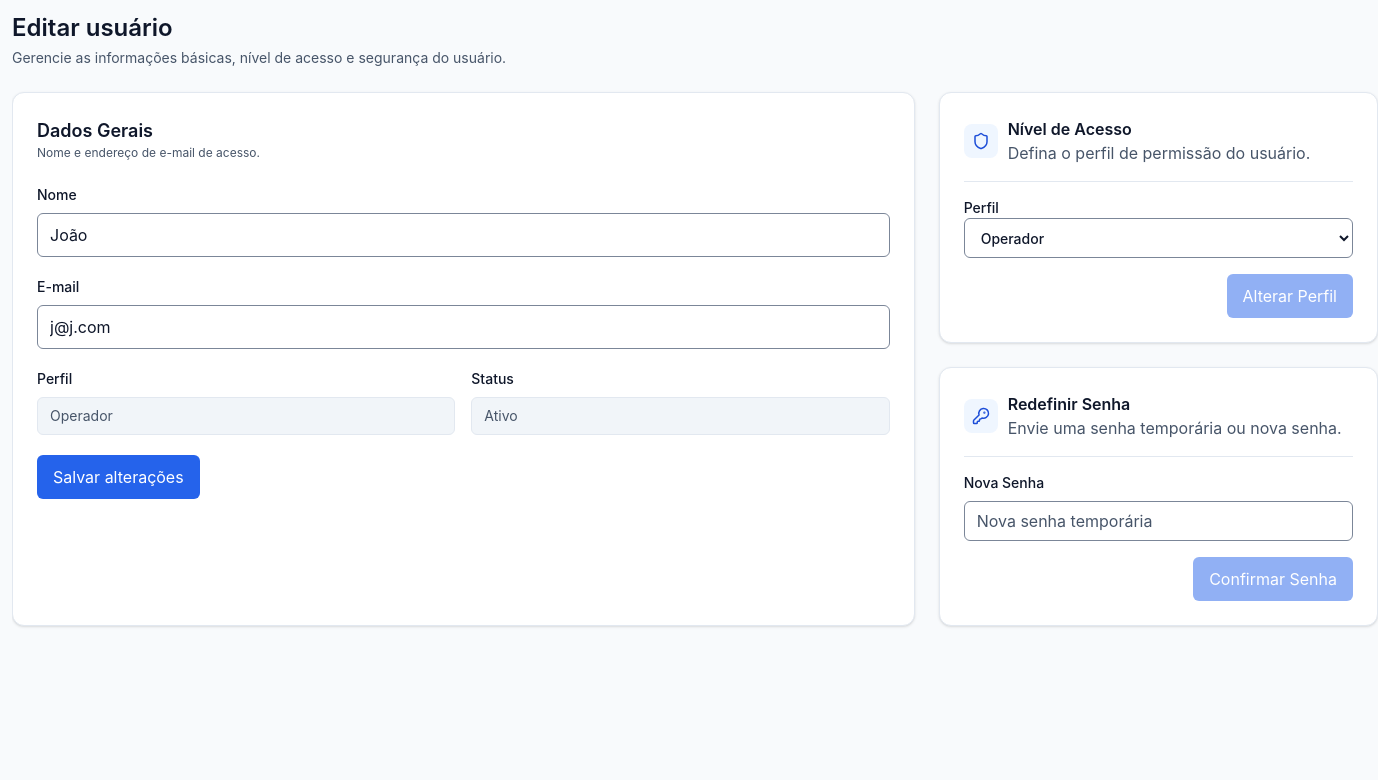
Test: EditarUsuarioPage — salvar, perfil e senha › deve mostrar o erro da API quando alterar o perfil falha
The image size is (1378, 780).
Select "Gestor" in the dropdown labelled "Perfil" at {"x": 1158, "y": 238}, box top-left (964, 218), bottom-right (1353, 258)
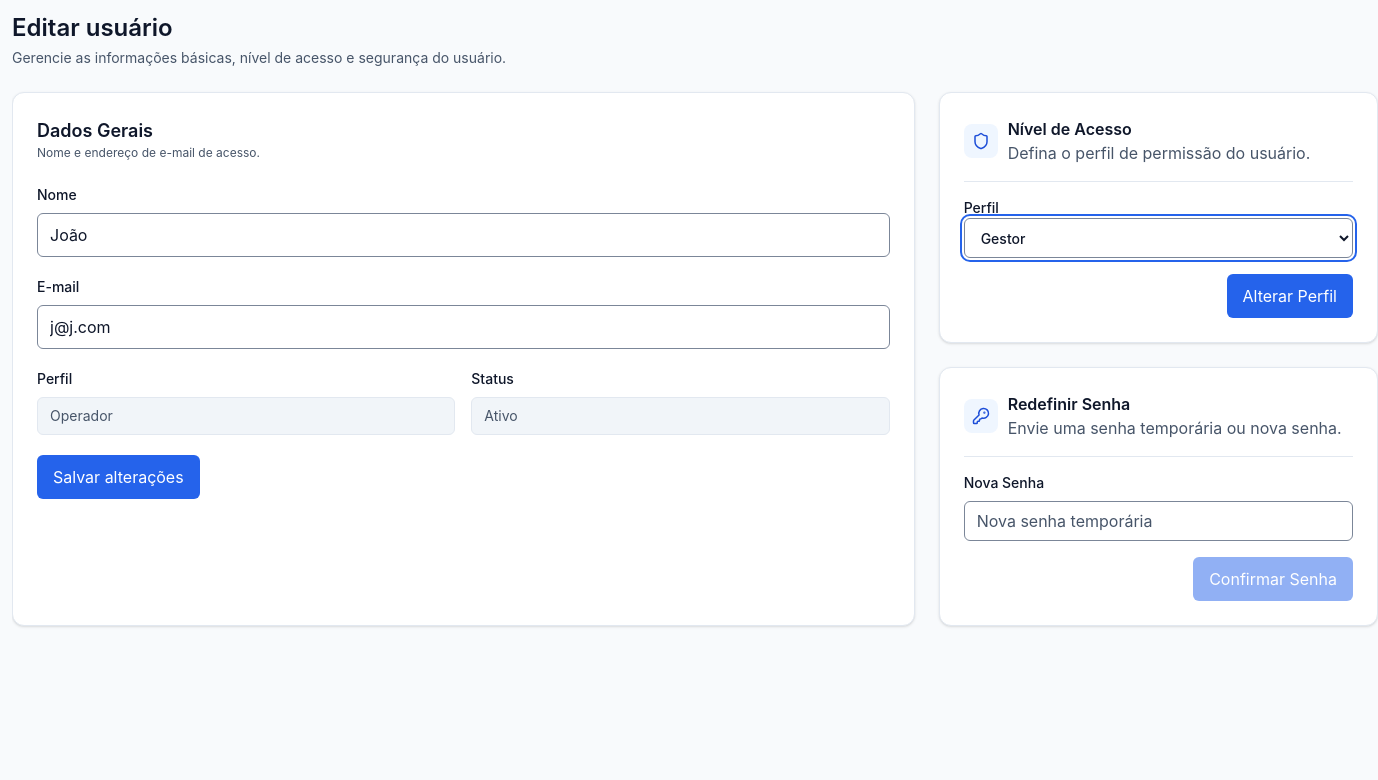
Click the button "Alterar Perfil" at {"x": 1290, "y": 296}, box top-left (1226, 274), bottom-right (1353, 318)
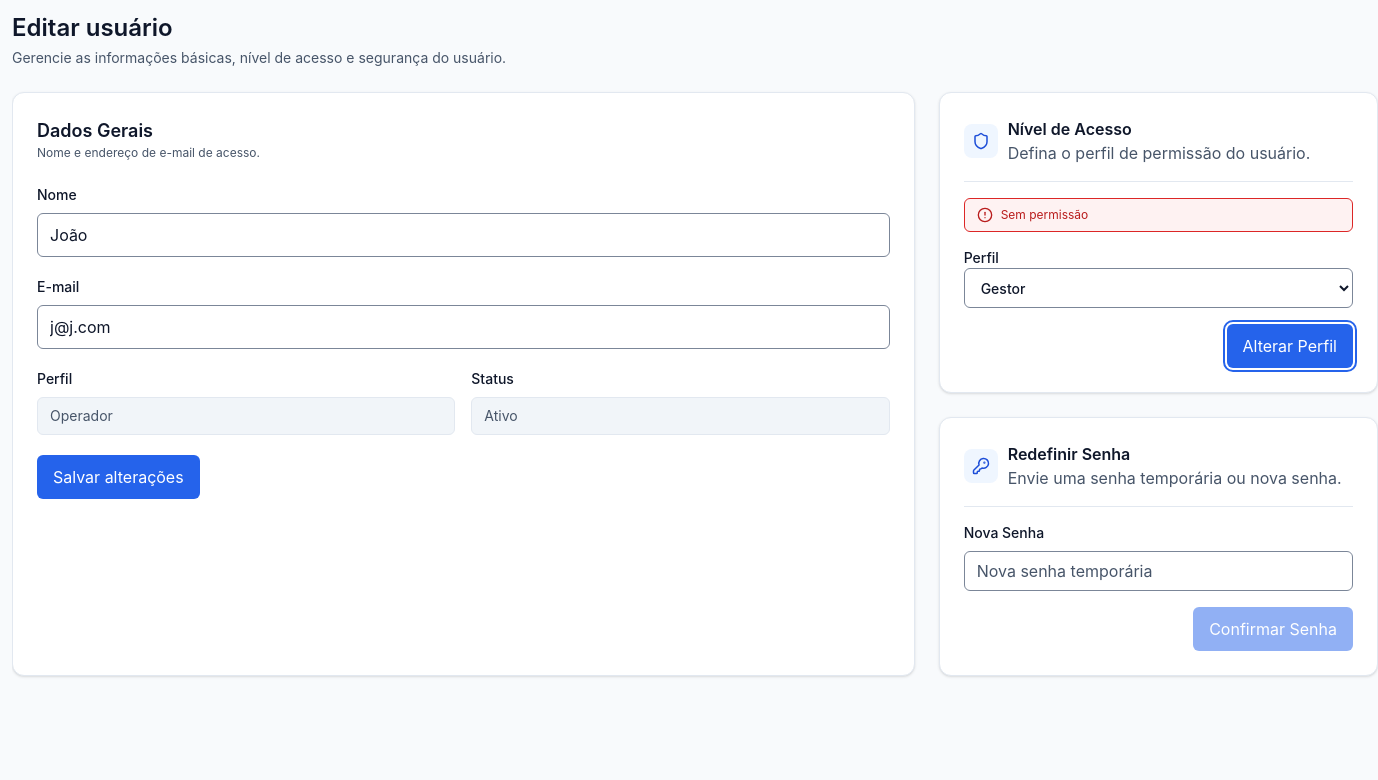
Expected: the text "Sem permissão" is shown, top-left (1001, 207), bottom-right (1088, 223)
